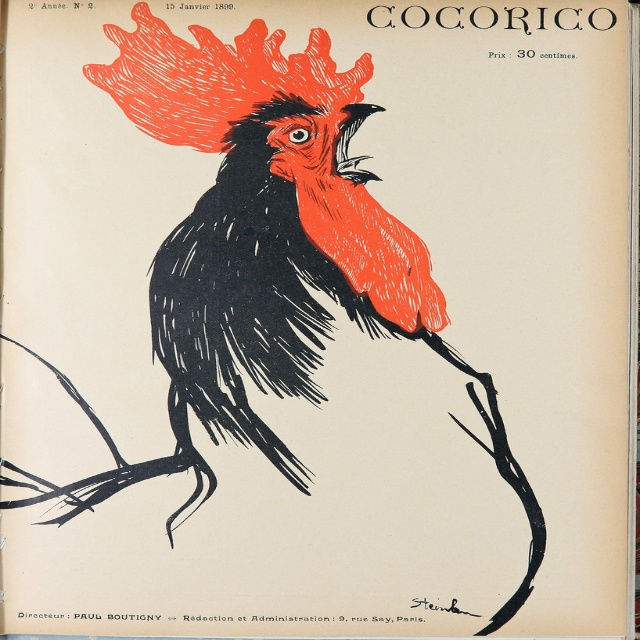Chicken: (66, 2, 530, 558)
